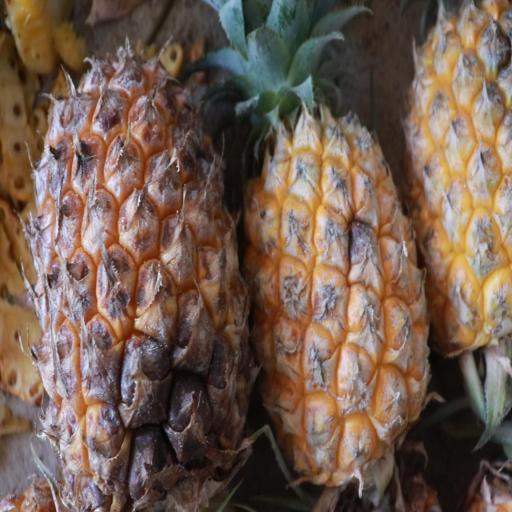Pineapple - v8 v1: (27, 37, 254, 512), (240, 38, 432, 499), (403, 4, 512, 365)
